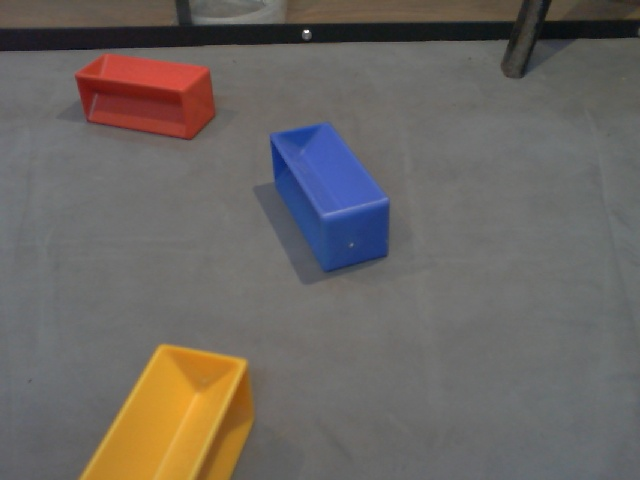BlueSample: (268, 119, 392, 275)
RedSample: (71, 48, 218, 140)
YellowSample: (74, 339, 256, 479)
